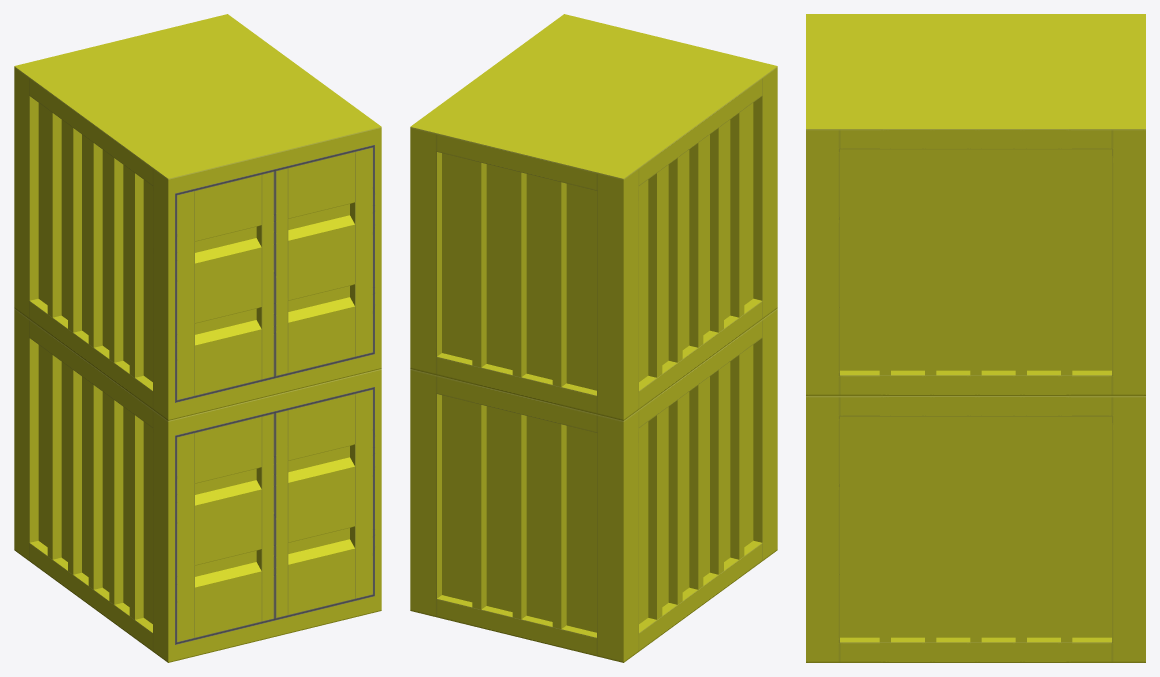
File: OB_Container_32 1.fbx
3 renders of one model, left to right at view 1: azimuth 30°, elevation 25°; view 2: azimuth 150°, elevation 25°; view 3: azimuth 270°, elevation 25°, orthographic. The views are drawn at different scales.
Visible parts, largest first — view 1: Container_32; view 2: Container_32; view 3: Container_32.
Boxes of the visible parts, bbox=[...] form: Container_32: bbox=[14, 14, 381, 662]; Container_32: bbox=[410, 14, 777, 662]; Container_32: bbox=[806, 14, 1145, 662].
Bounding box in the file's own units: 240 × 520 × 300.
